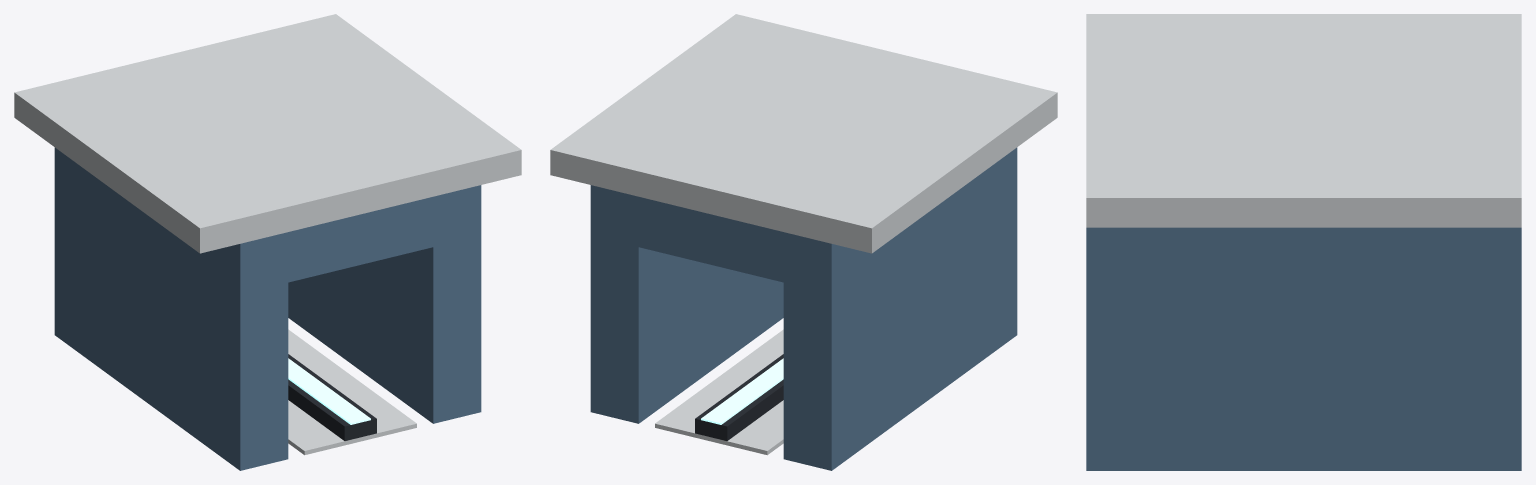
The model's file is road_rail_x_tunnel_lod1.glb.
The picture shows the model from 3 angles, left to right: view 1: azimuth 30°, elevation 25°; view 2: azimuth 150°, elevation 25°; view 3: azimuth 270°, elevation 25°; orthographic projection. The views are drawn at different scales.
Parts seen in each view (by area): view 1: body; view 2: body; view 3: body.
Boxes of the visible parts, box(x1,y1,x2,y2) form: body: box(14, 14, 521, 470); body: box(550, 14, 1057, 470); body: box(1086, 14, 1521, 470).
Size of the model in its own units: 8 by 6 by 8.
